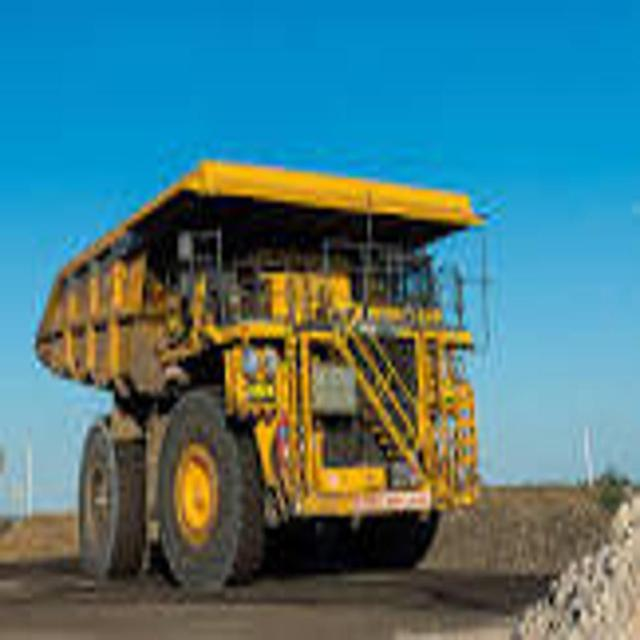dump_truck: (33, 145, 492, 597)
